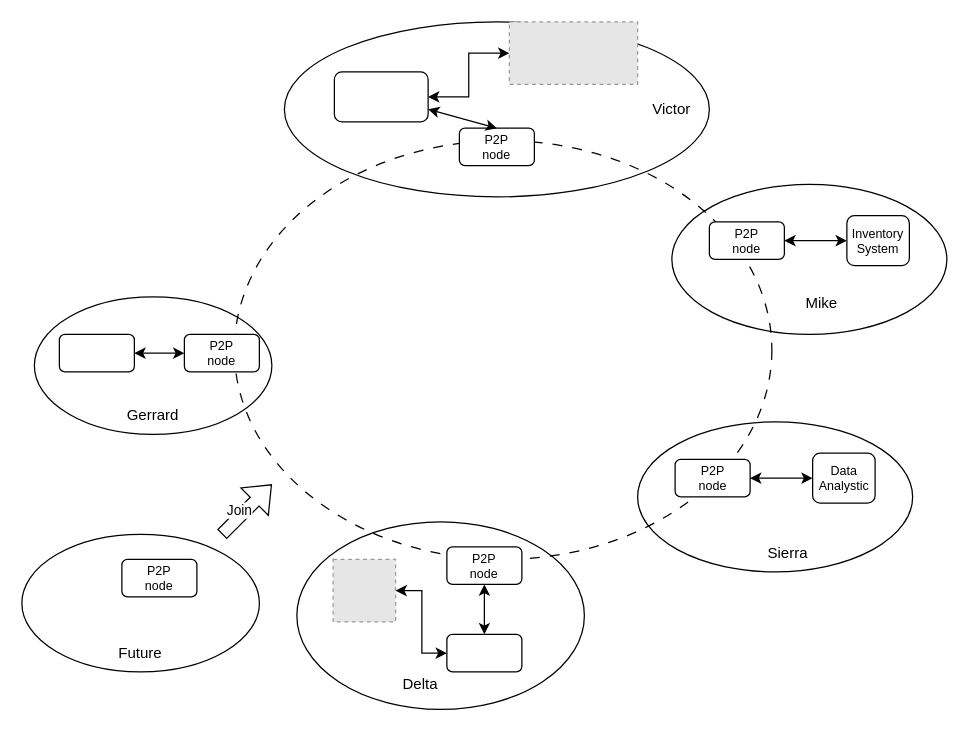
Some shapes in this 969 by 731 pixel diagram are drawn without their labels. Grey dashed boxes stand in for pictures. Each missing label, with the centre of its shape:
Data Analytic: pixel 96 352
Distiller controller: pixel 484 652
IoT server: pixel 380 96
Mengawas P2P Network: pixel 502 349
